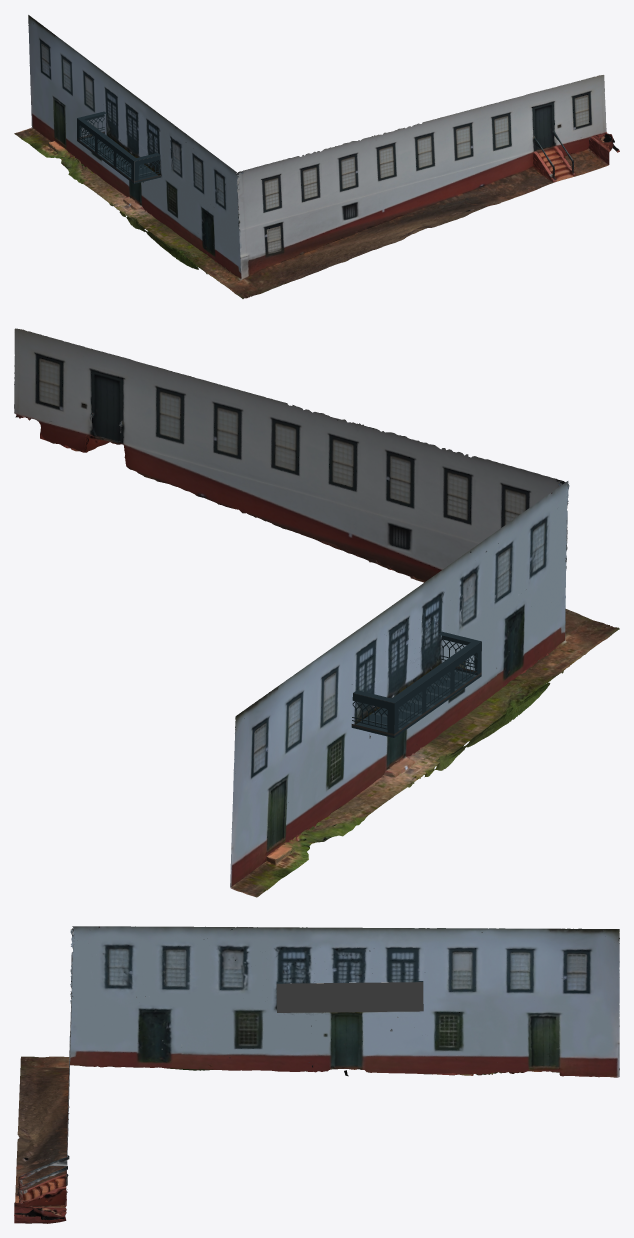
The model's file is G1Orientação.FBX.
3 renders of one model, top to bottom at view 1: azimuth 30°, elevation 25°; view 2: azimuth 150°, elevation 25°; view 3: azimuth 270°, elevation 25°, orthographic. The views are drawn at different scales.
Parts seen in each view (by area): view 1: Box001; view 2: Box001; view 3: Box001.
Part boxes in pixels (x1,y1,x2,y2): Box001: [14, 15, 619, 298]; Box001: [14, 328, 619, 897]; Box001: [14, 926, 619, 1223].
Bounding box in the file's own units: 2051 × 650 × 2154.
Materials: 2 (2 with a texture image).
